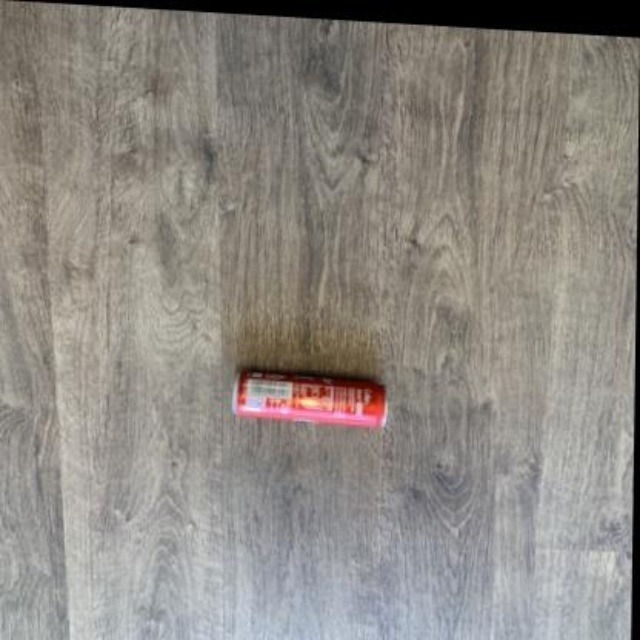trash: (232, 369, 385, 426)
